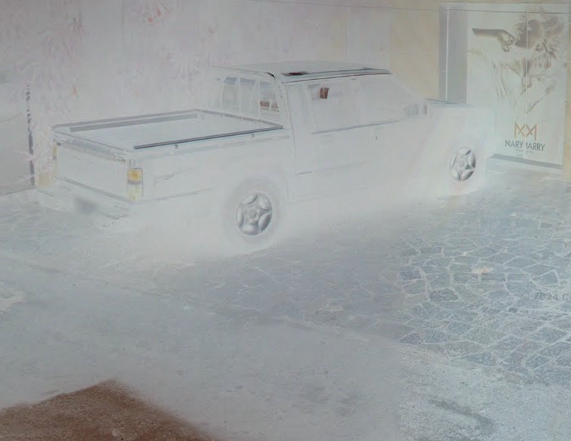car: (32, 58, 501, 248)
